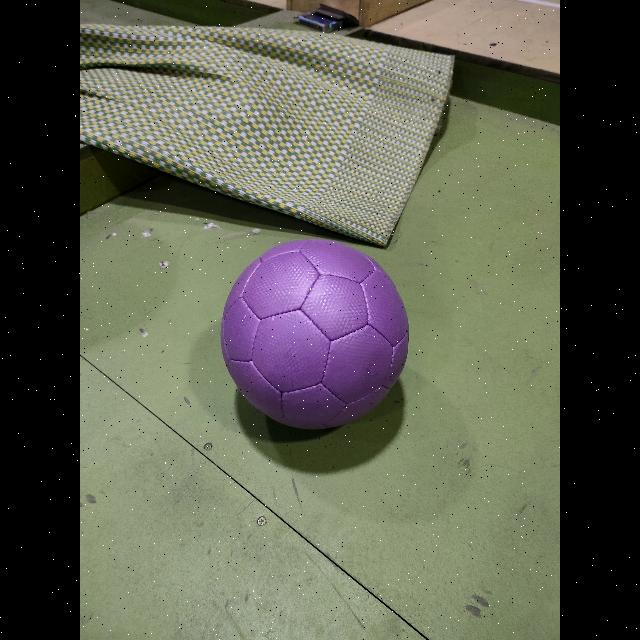P: (222, 239, 408, 429)
